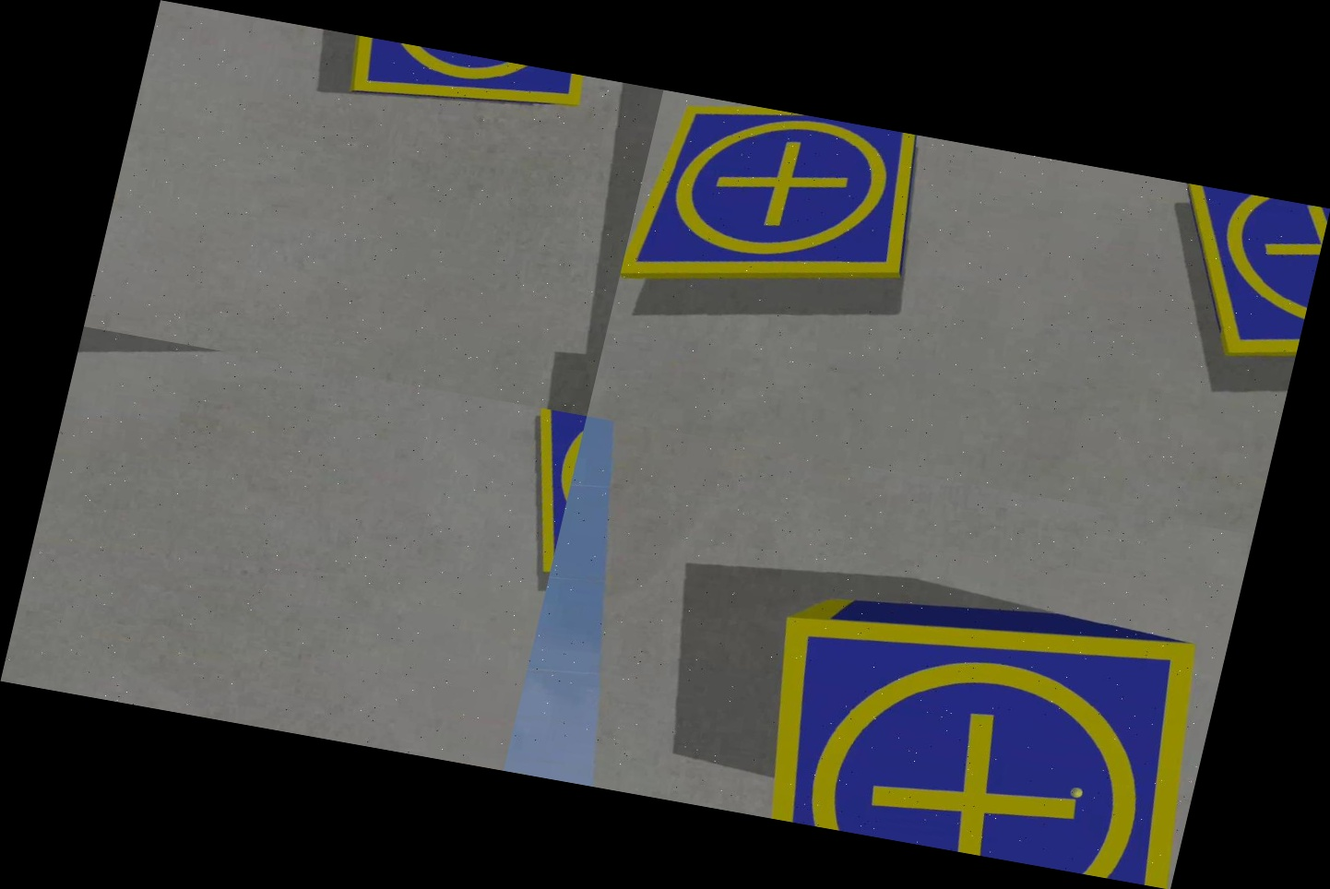small_base: (738, 569, 1227, 889), (620, 89, 943, 326), (1140, 182, 1329, 371), (334, 33, 587, 131)
